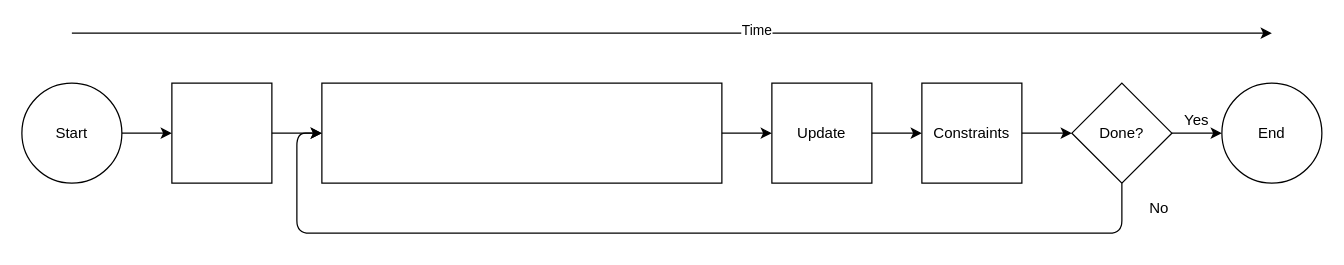
This 1344x265 diagram has some shape labels left out. The shapes that lost their labels are listed below. From the top down, each one's centre as x and y in pixels, then its label:
pixel 221 132: Setup
pixel 521 132: Compute forces
